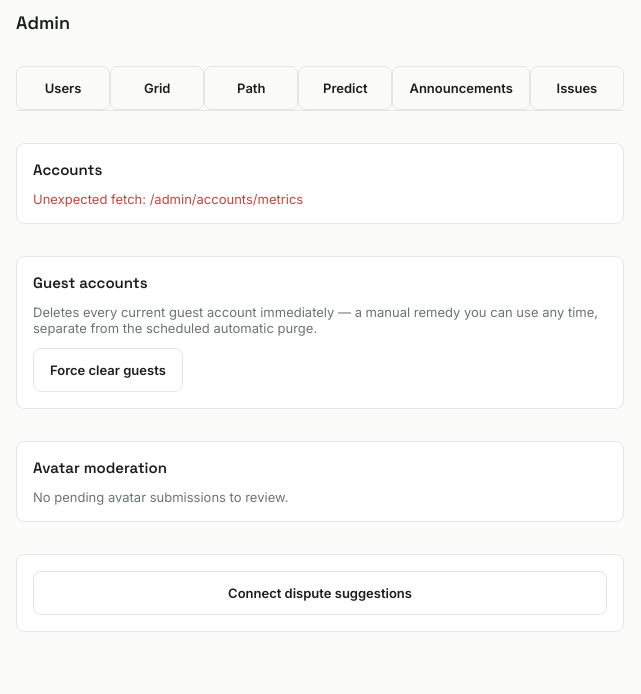
Test: AdminScreen › REQ-501/503: "Correct" opens an inline form, and a successful submit refetches the list
Click the tab "Grid".
click(157, 88)  # box [110,66,204,110]
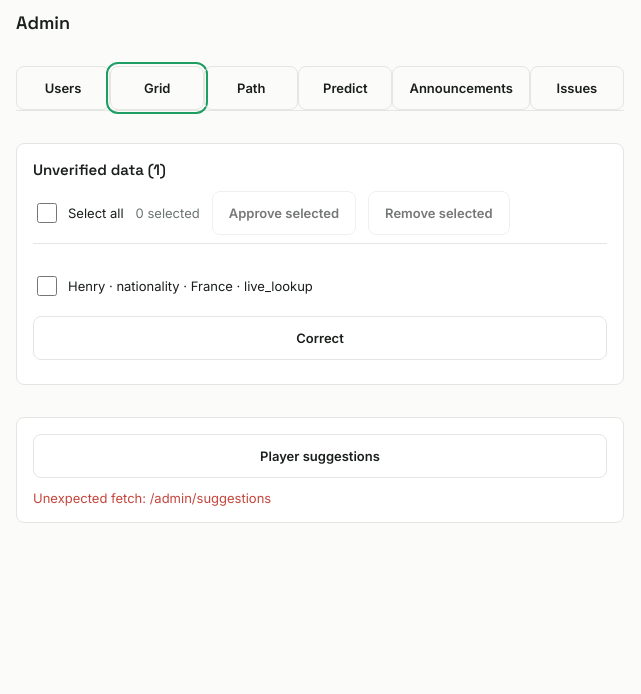
Now the text "Henry · nationality · France · live_lookup" is shown, box [68,278,313,294]
Click the button "Correct".
click(320, 338)  # box [33,316,607,360]
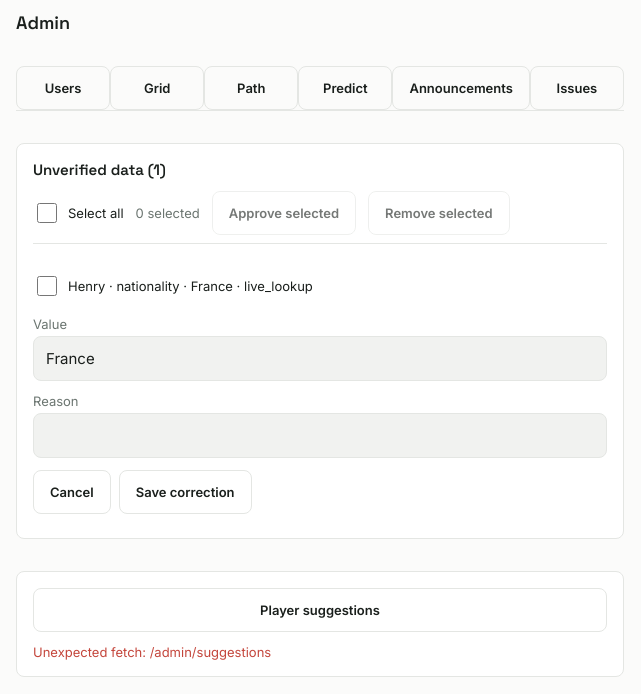
Replace the text in the field labelled "Value" with "Guadeloupe" at (320, 358), box [33,336,607,381]
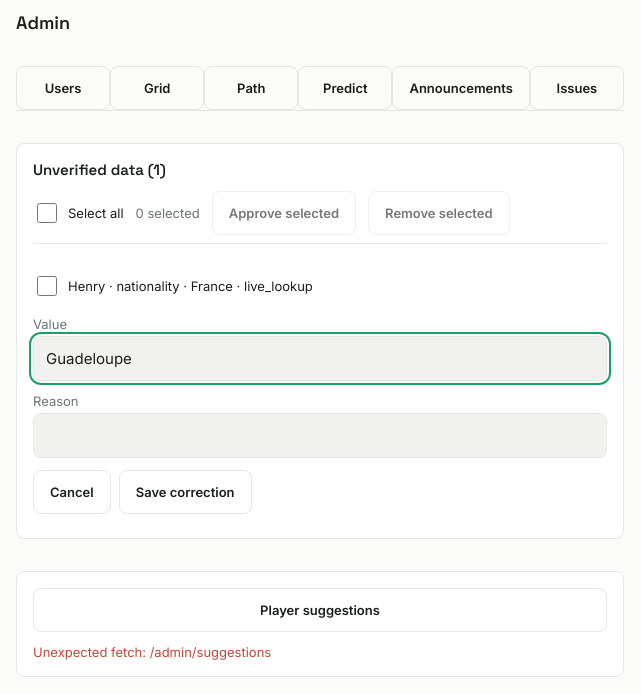
Type "Wikidata correction" into the field labelled "Reason".
click(320, 436); type("Wikidata correction")  # box [33,413,607,458]
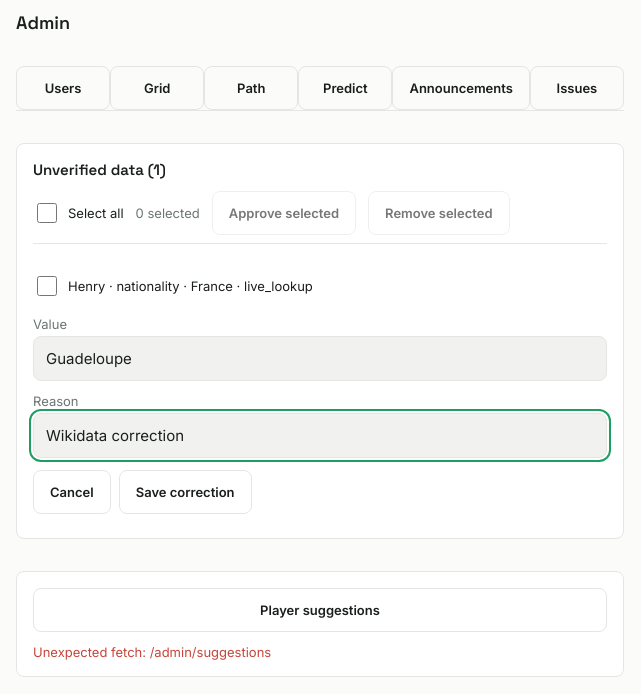
Click the button "Save correction".
click(185, 492)  # box [119,470,252,514]
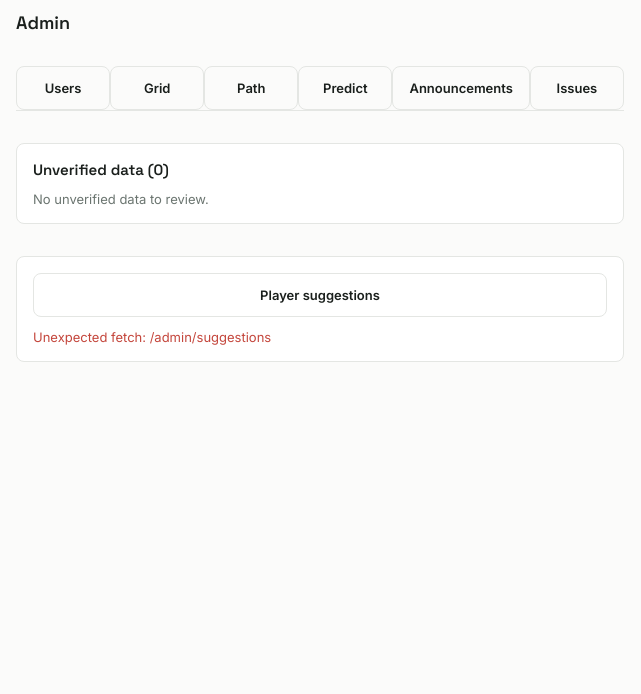
Now the text "No unverified data to review." is shown, box [33,191,209,207]
